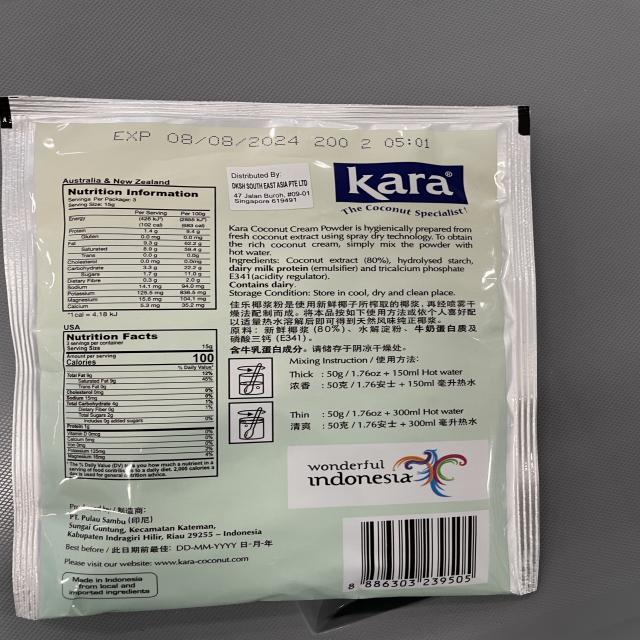object_name: (7, 102, 534, 600)
